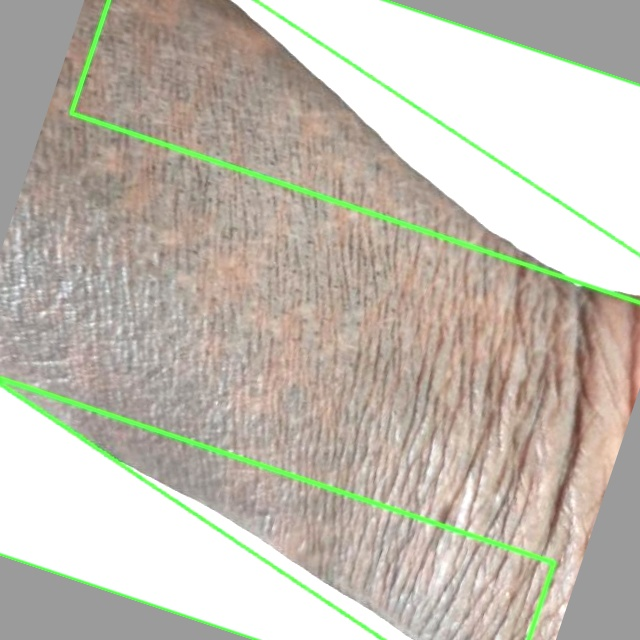Eczema: (0, 0, 639, 639), (71, 0, 639, 302), (0, 378, 554, 639)
